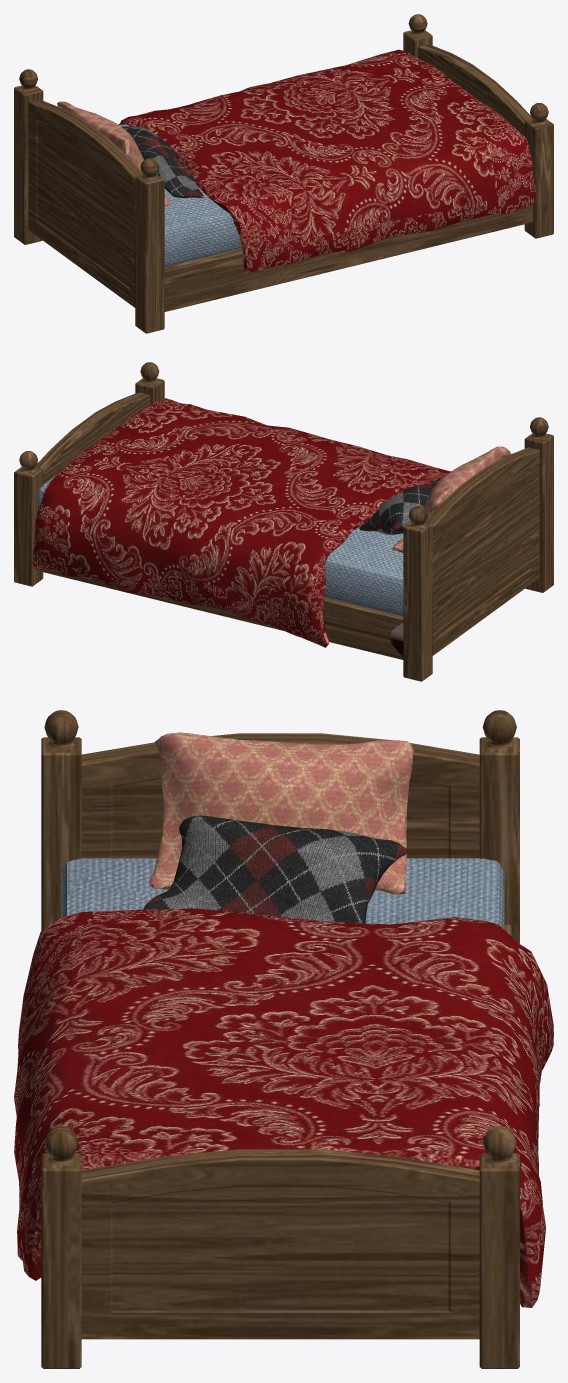
The model's file is Bed.fbx.
The picture shows the model from 3 angles, top to bottom: view 1: azimuth 30°, elevation 25°; view 2: azimuth 150°, elevation 25°; view 3: azimuth 270°, elevation 25°; orthographic projection. The views are drawn at different scales.
Visible parts, largest first — view 1: Frame; view 2: Frame; view 3: Frame.
Part boxes in pixels (<box>): Frame: <box>14,14,553,333</box>; Frame: <box>14,362,553,681</box>; Frame: <box>14,710,553,1368</box>.
Bounding box in the file's own units: 127 × 50.39 × 80.64.
